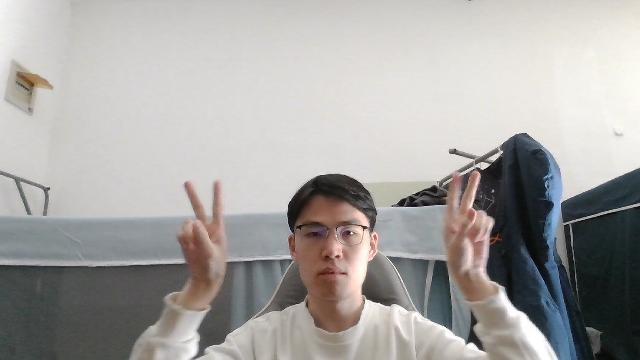two: (176, 176, 228, 284)
